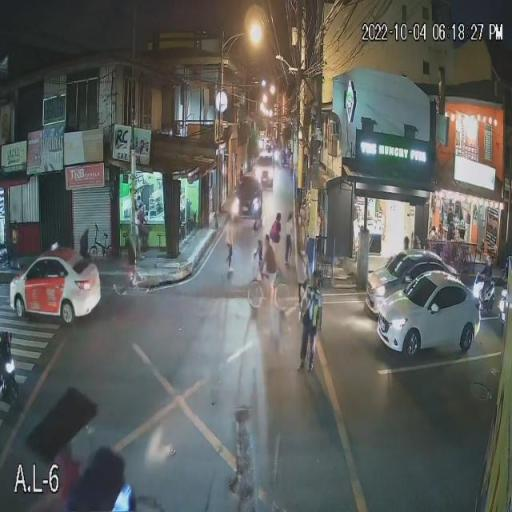helmet: (478, 260, 488, 271)
motorcycle: (466, 271, 500, 311)
rider: (480, 254, 492, 307)
